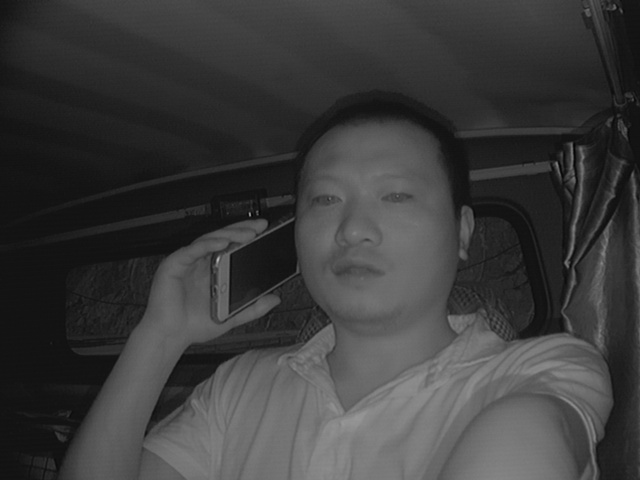hand: (142, 214, 284, 342)
